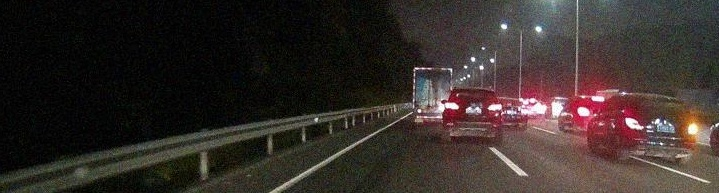L_light: (624, 117, 643, 129), (444, 102, 459, 110)
R_light: (686, 123, 697, 135), (488, 104, 502, 110)
T_light: (649, 97, 663, 102), (469, 90, 479, 93)
night-no: (443, 87, 502, 144)
night-right: (623, 93, 698, 165)
